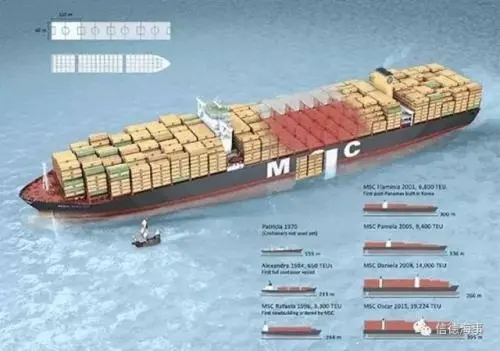Cargoship: (14, 48, 487, 217)
